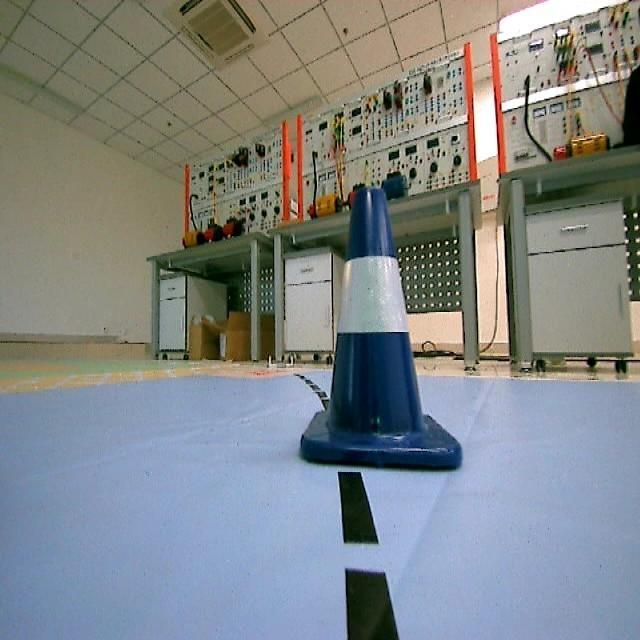obstacle: (297, 182, 468, 479)
